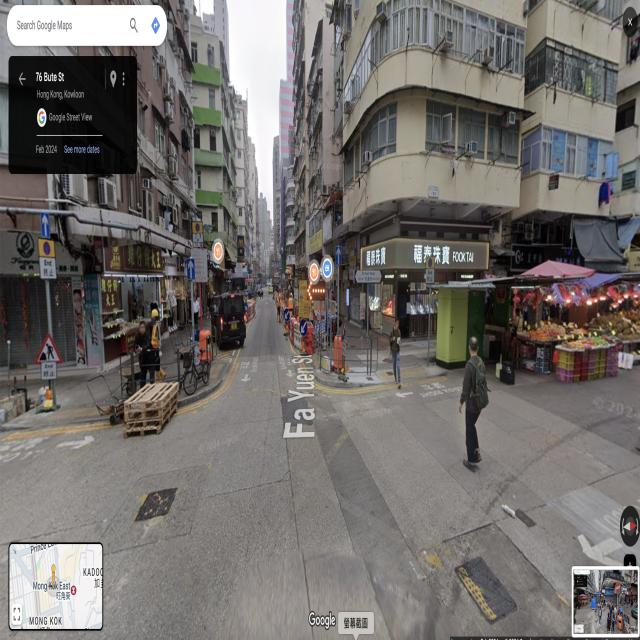Direction-Sign: (187, 258, 195, 279), (336, 246, 342, 265)
Order-Sign: (38, 238, 56, 279), (192, 221, 204, 246), (426, 257, 434, 283), (300, 318, 307, 336), (284, 309, 290, 321)
Street-Direction-Sign: (355, 270, 382, 284)
Warning-Sign: (35, 331, 64, 363), (341, 319, 348, 346)
